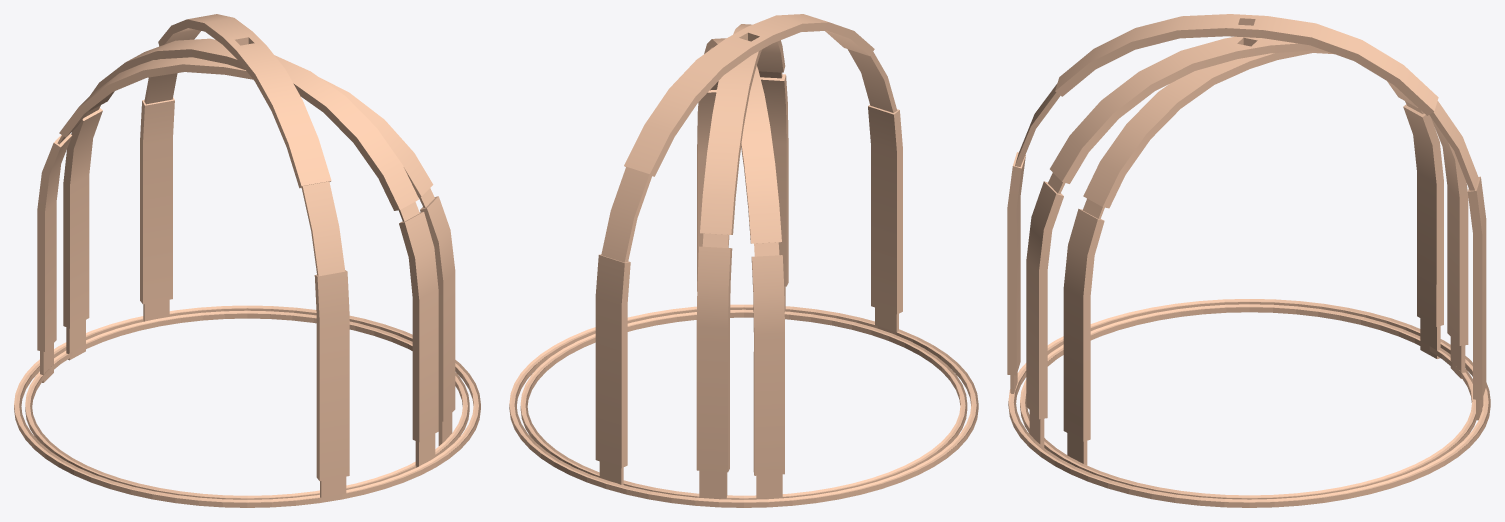
File: TorBogen_01_mesh.fbx
The picture shows the model from 3 angles, left to right: view 1: azimuth 30°, elevation 25°; view 2: azimuth 150°, elevation 25°; view 3: azimuth 270°, elevation 25°; orthographic projection. The views are drawn at different scales.
Parts seen in each view (by area): view 1: Cube.079, Cube.146, Cube.153, Cylinder.034, Cylinder.033; view 2: Cube.079, Cube.146, Cube.153, Cylinder.034, Cylinder.033; view 3: Cube.153, Cube.079, Cube.146, Cylinder.034, Cylinder.033.
Part boxes in pixels (box(x1,y1,x2,y2)): Cube.079: box(140, 14, 349, 497); Cube.146: box(63, 38, 438, 467); Cube.153: box(37, 57, 455, 445); Cylinder.034: box(14, 305, 480, 507); Cylinder.033: box(25, 310, 469, 499); Cube.079: box(595, 14, 902, 484); Cube.146: box(696, 24, 788, 498); Cube.153: box(697, 38, 784, 498); Cylinder.034: box(509, 304, 978, 507); Cylinder.033: box(520, 309, 967, 499); Cube.153: box(1063, 50, 1443, 465); Cube.079: box(1007, 14, 1486, 420); Cube.146: box(1026, 36, 1468, 447); Cylinder.034: box(1008, 299, 1490, 507); Cylinder.033: box(1020, 304, 1476, 499).
Size of the model in its own units: 222 by 196 by 222.
